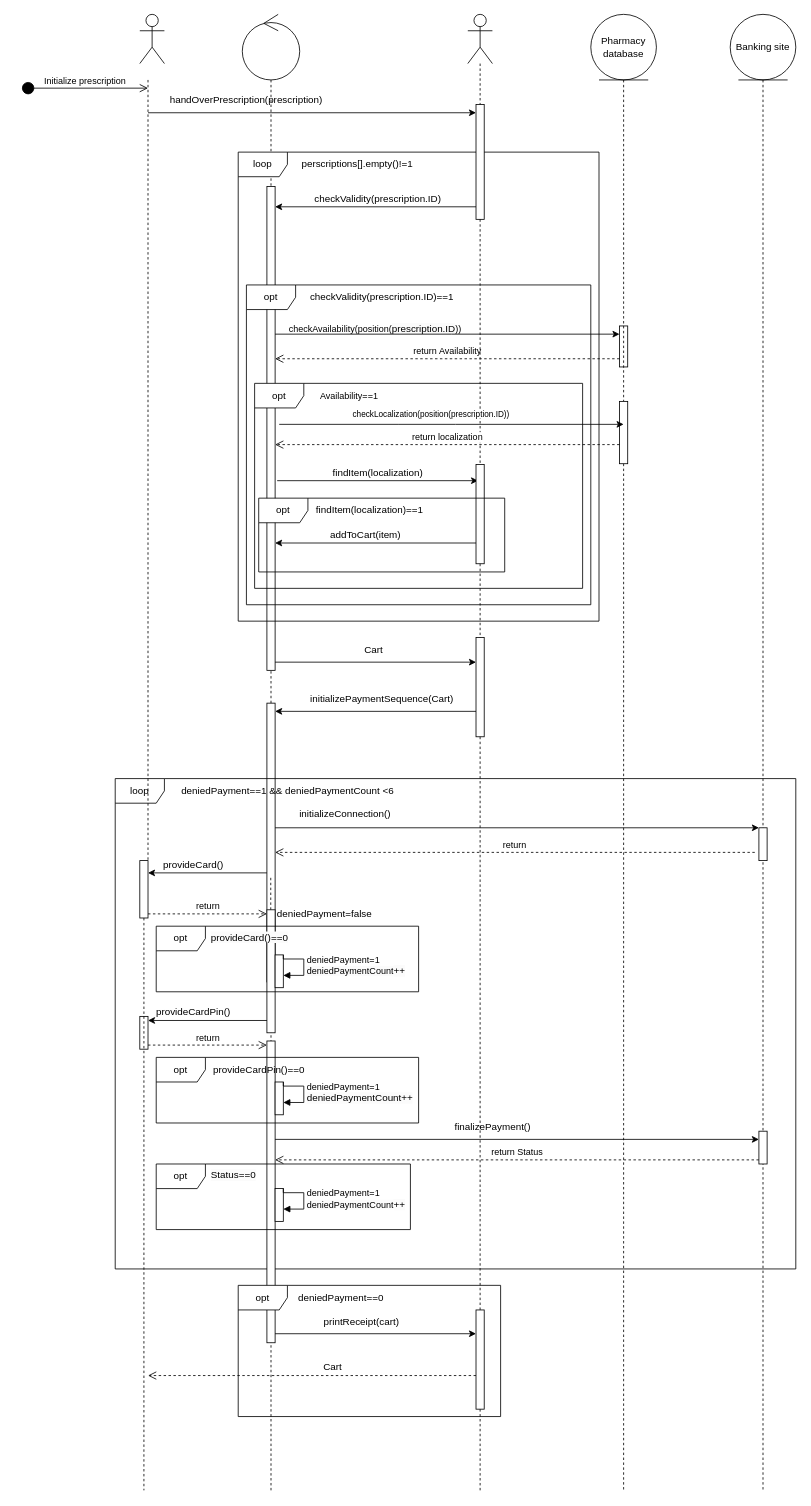
The diagram is 811 pixels wide and 1506 high, and some of its shapes have lost their labels. The shapes that lost their labels are listed below. From the top down, each one's box as (x1, y1, x2, y2) in pixels, then its label:
(139, 14, 164, 64): Pacjent
(241, 14, 300, 80): System
(467, 14, 492, 64): Farmaceuta
